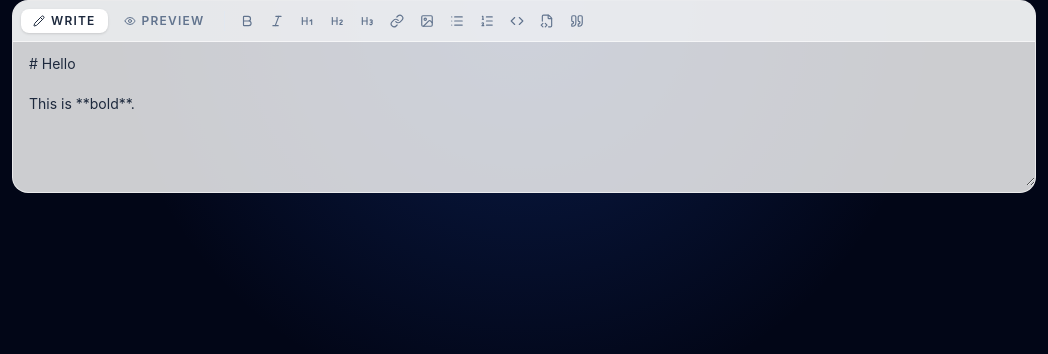
Test: MarkdownEditor › switches to Preview tab and renders markdown
Click the button "Preview": (164,21) [112,9,216,33]
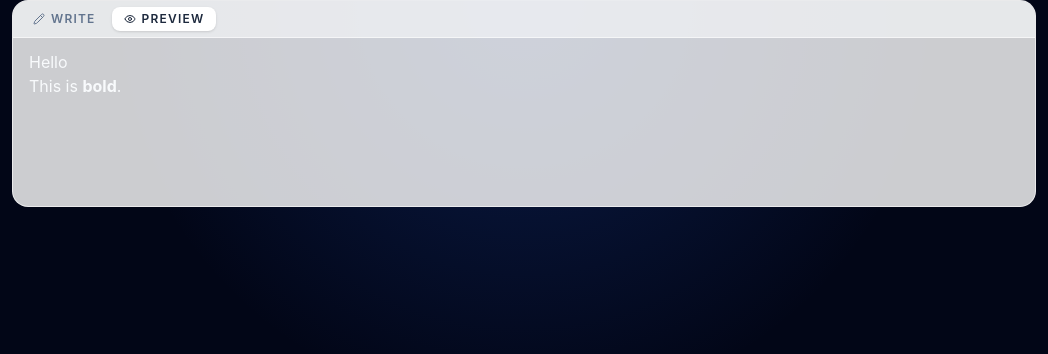
Expected: the heading reads "Hello", [29,52,68,72]
Expected: the text "bold" is shown, [82,76,117,96]
